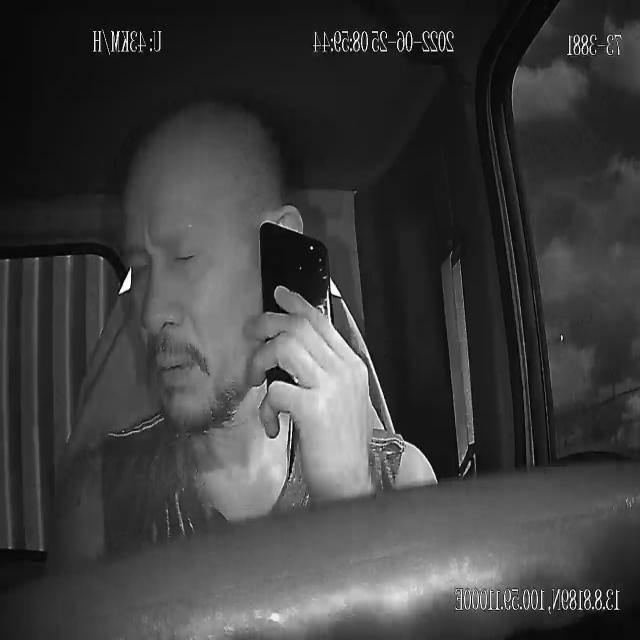phone: (257, 217, 333, 424)
